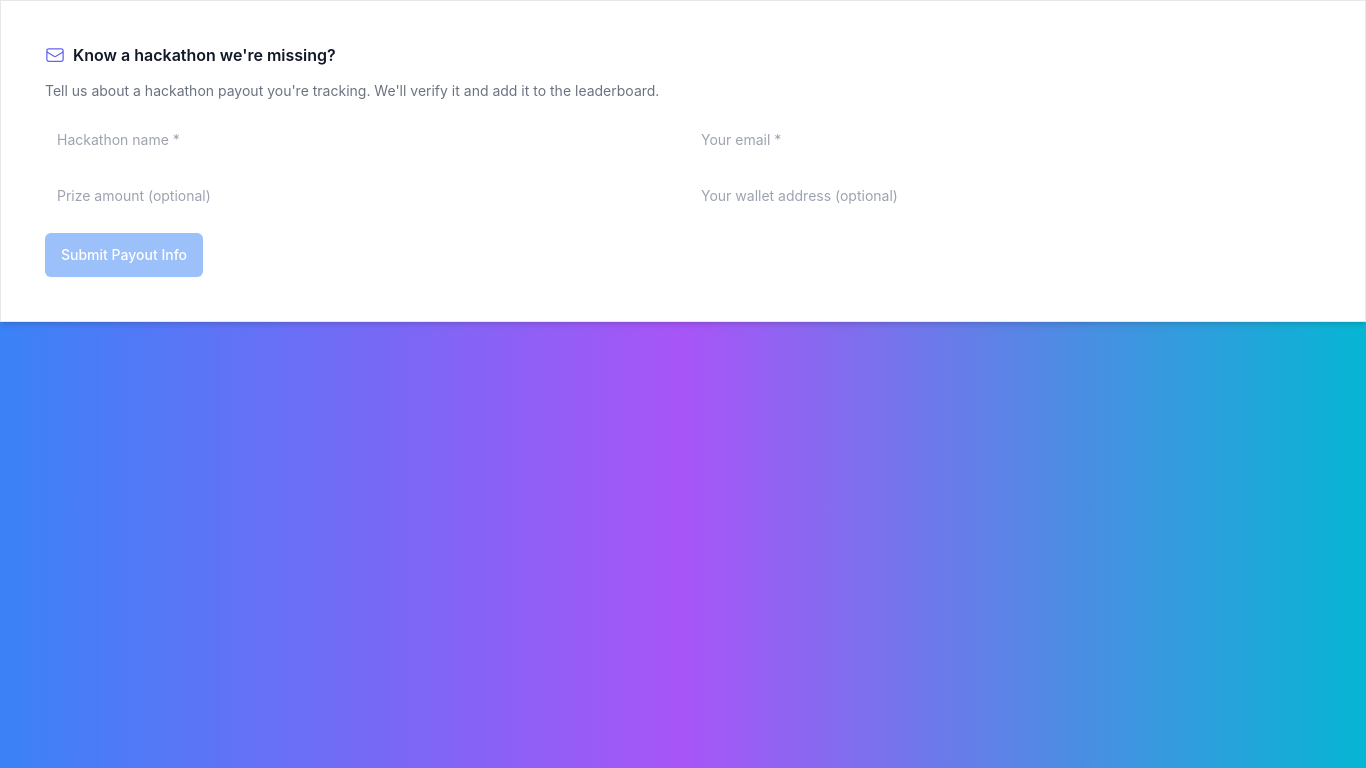
Test: PayoutLeadForm › shows server error message on 4xx response
Type "Test" into the field with placeholder "Hackathon name *" at [361, 139], box [45,117,677,161]
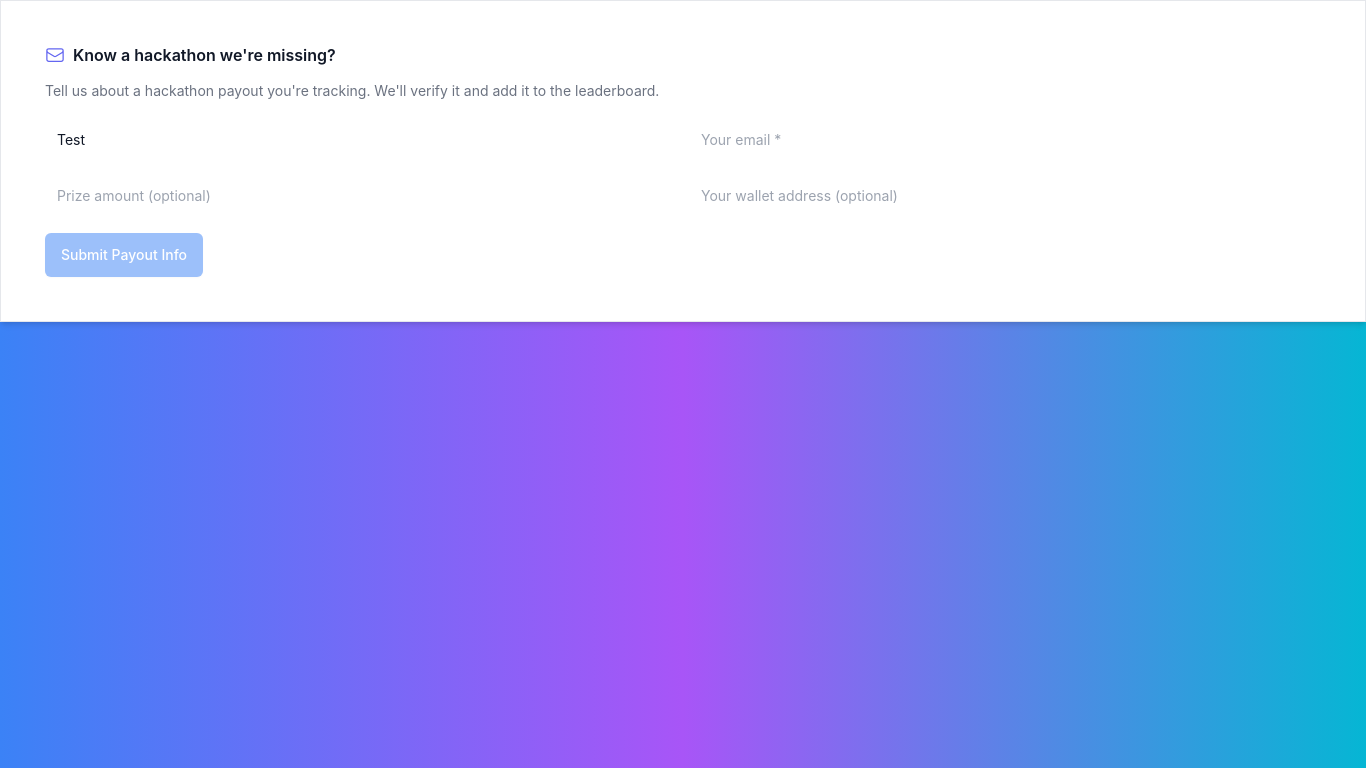
Type "bad@example.com" into the field with placeholder "Your email *" at [1005, 139], box [689,117,1321,161]
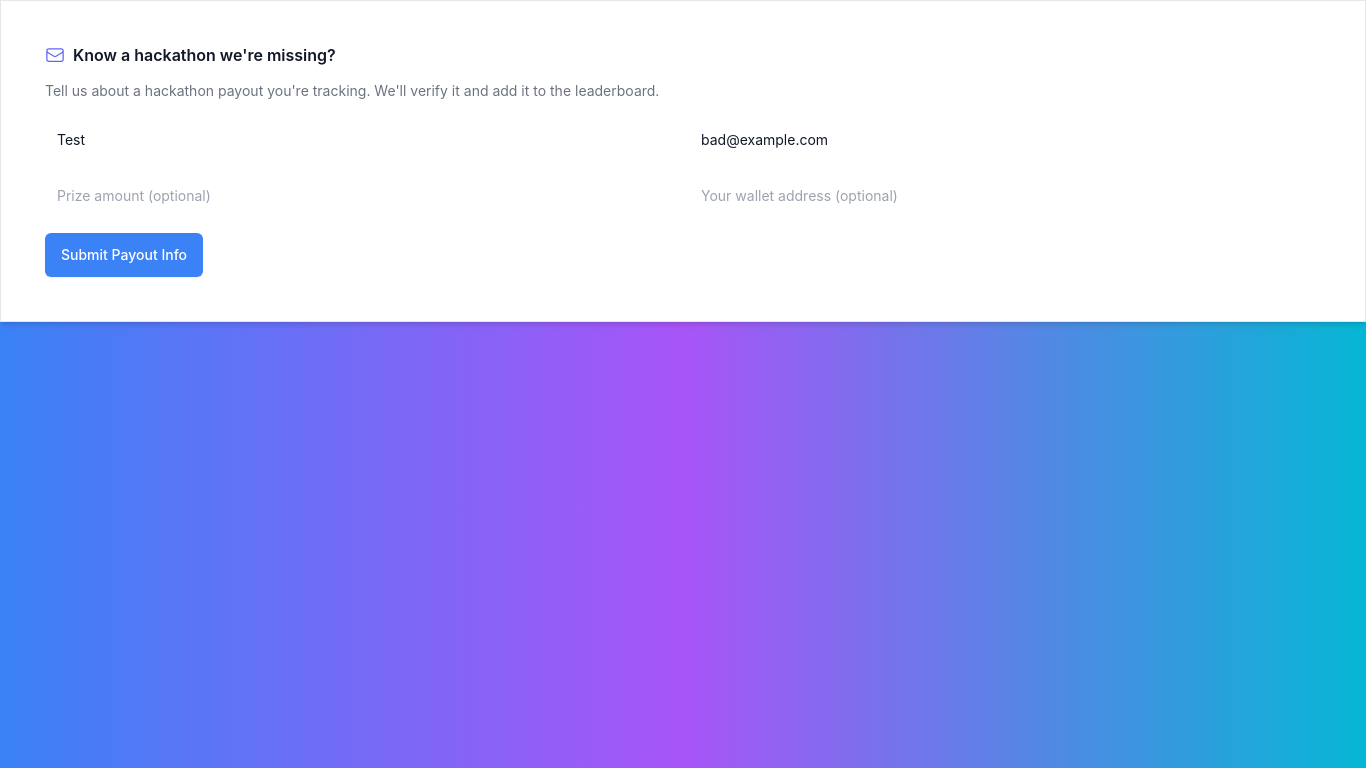
Click the button "Submit Payout Info" at [124, 255], box [45,233,203,277]
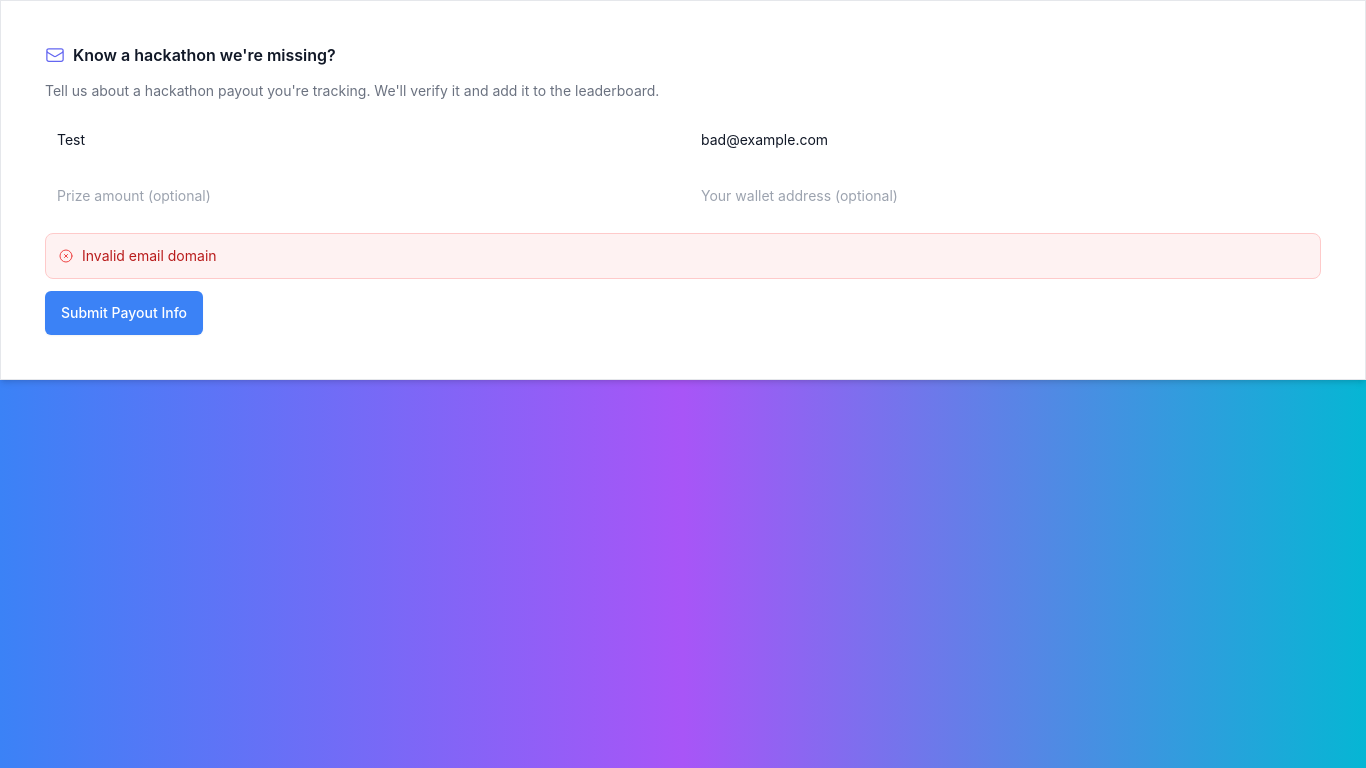
Check: the text "Invalid email domain" is shown, box [82,246,216,266]
